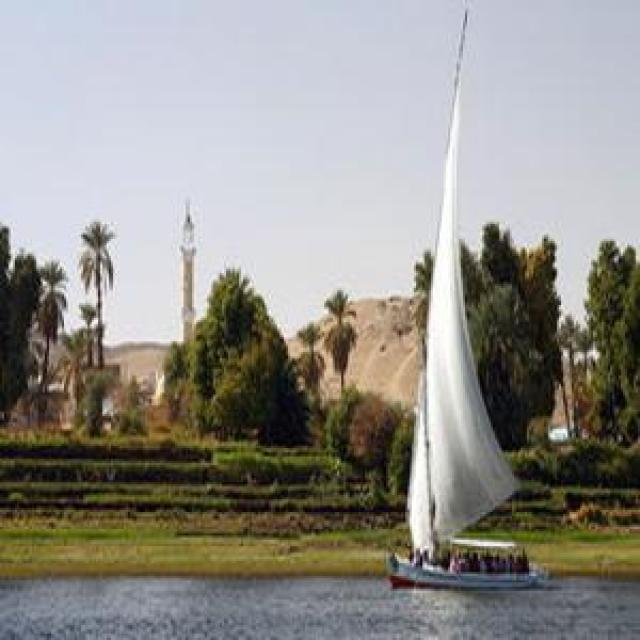sailboat: (387, 3, 554, 590)
